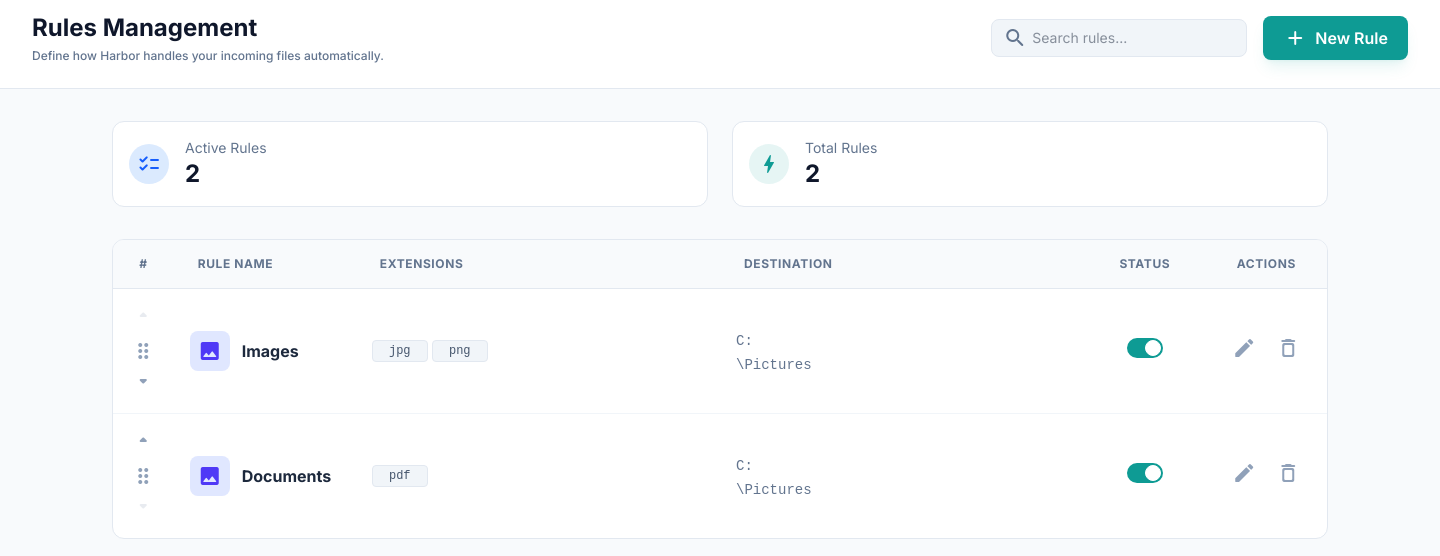
RulesPage › filters rules by search term
In the field with placeholder "Search rules...": (1119, 38) [991,19,1247,57], type "Doc"
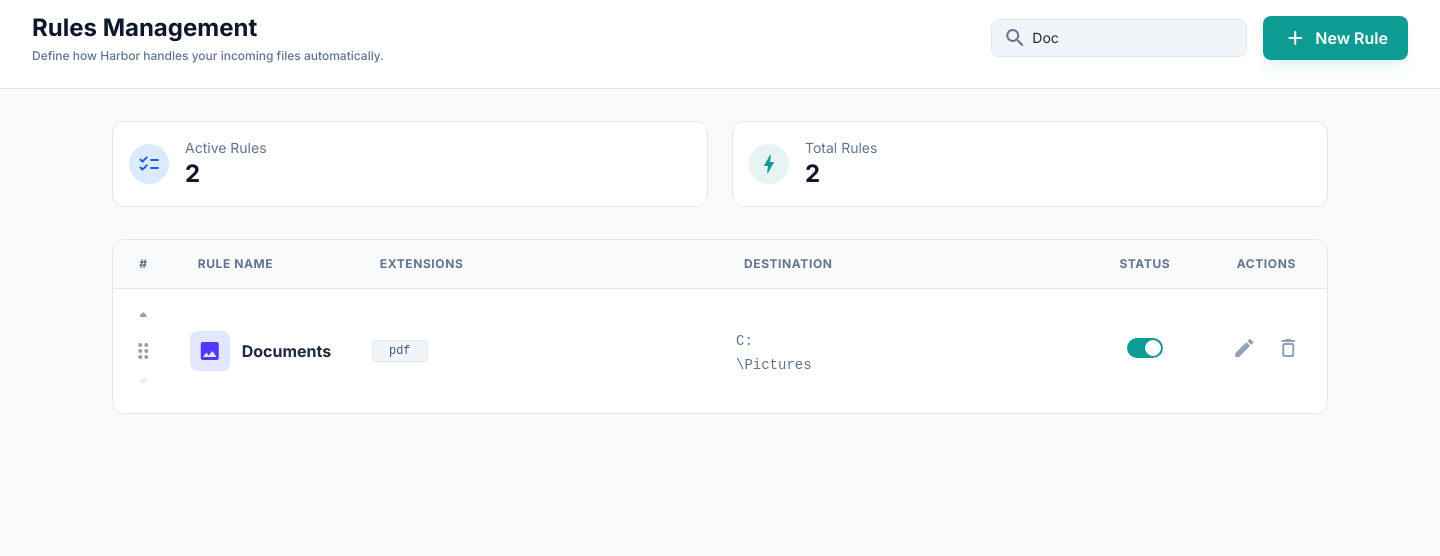
expect the text "Documents" is shown: met, box [242,339,331,363]
expect the text "Images" is gone: met
